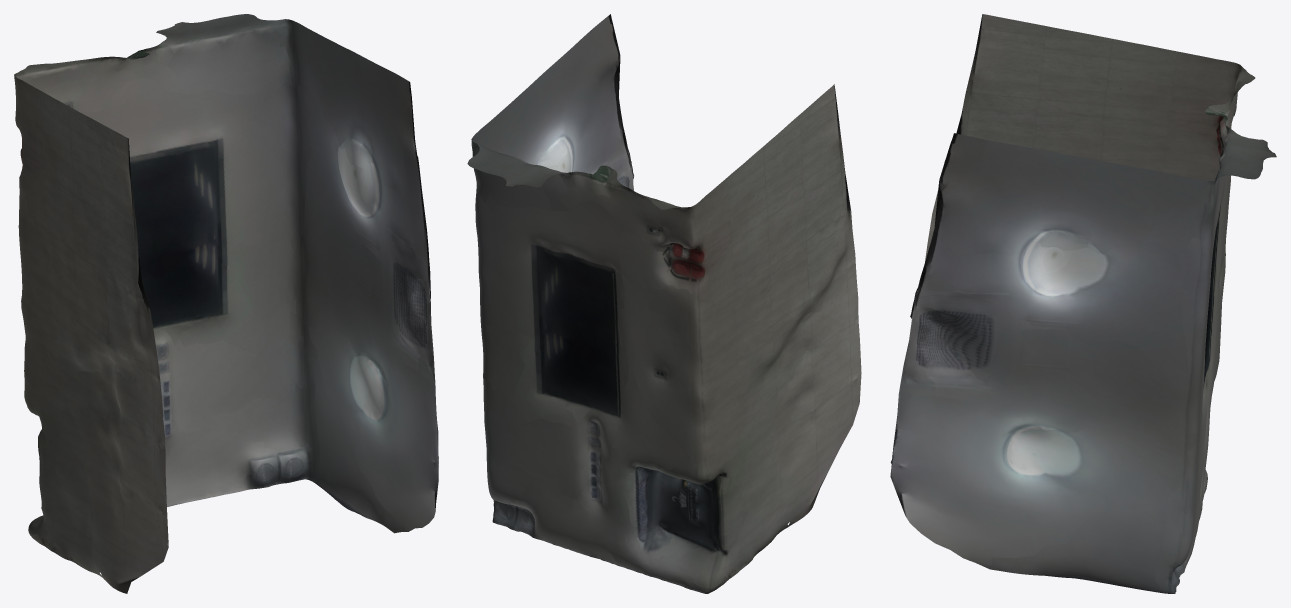
File: 정문tv.fbx
3 renders of one model, left to right at view 1: azimuth 30°, elevation 25°; view 2: azimuth 150°, elevation 25°; view 3: azimuth 270°, elevation 25°, orthographic. The views are drawn at different scales.
Visible parts, largest first — view 1: Untitled; view 2: Untitled; view 3: Untitled.
Part boxes in pixels (left/top/right/bottom): Untitled: left=14, top=14, right=438, bottom=593; Untitled: left=467, top=14, right=861, bottom=593; Untitled: left=890, top=14, right=1276, bottom=593.
Size of the model in its own units: 86.82 by 142 by 108.
Materials: 1 (1 with a texture image).
